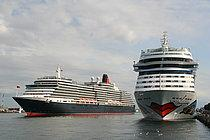Ship: (13, 64, 140, 121), (131, 30, 205, 126)
